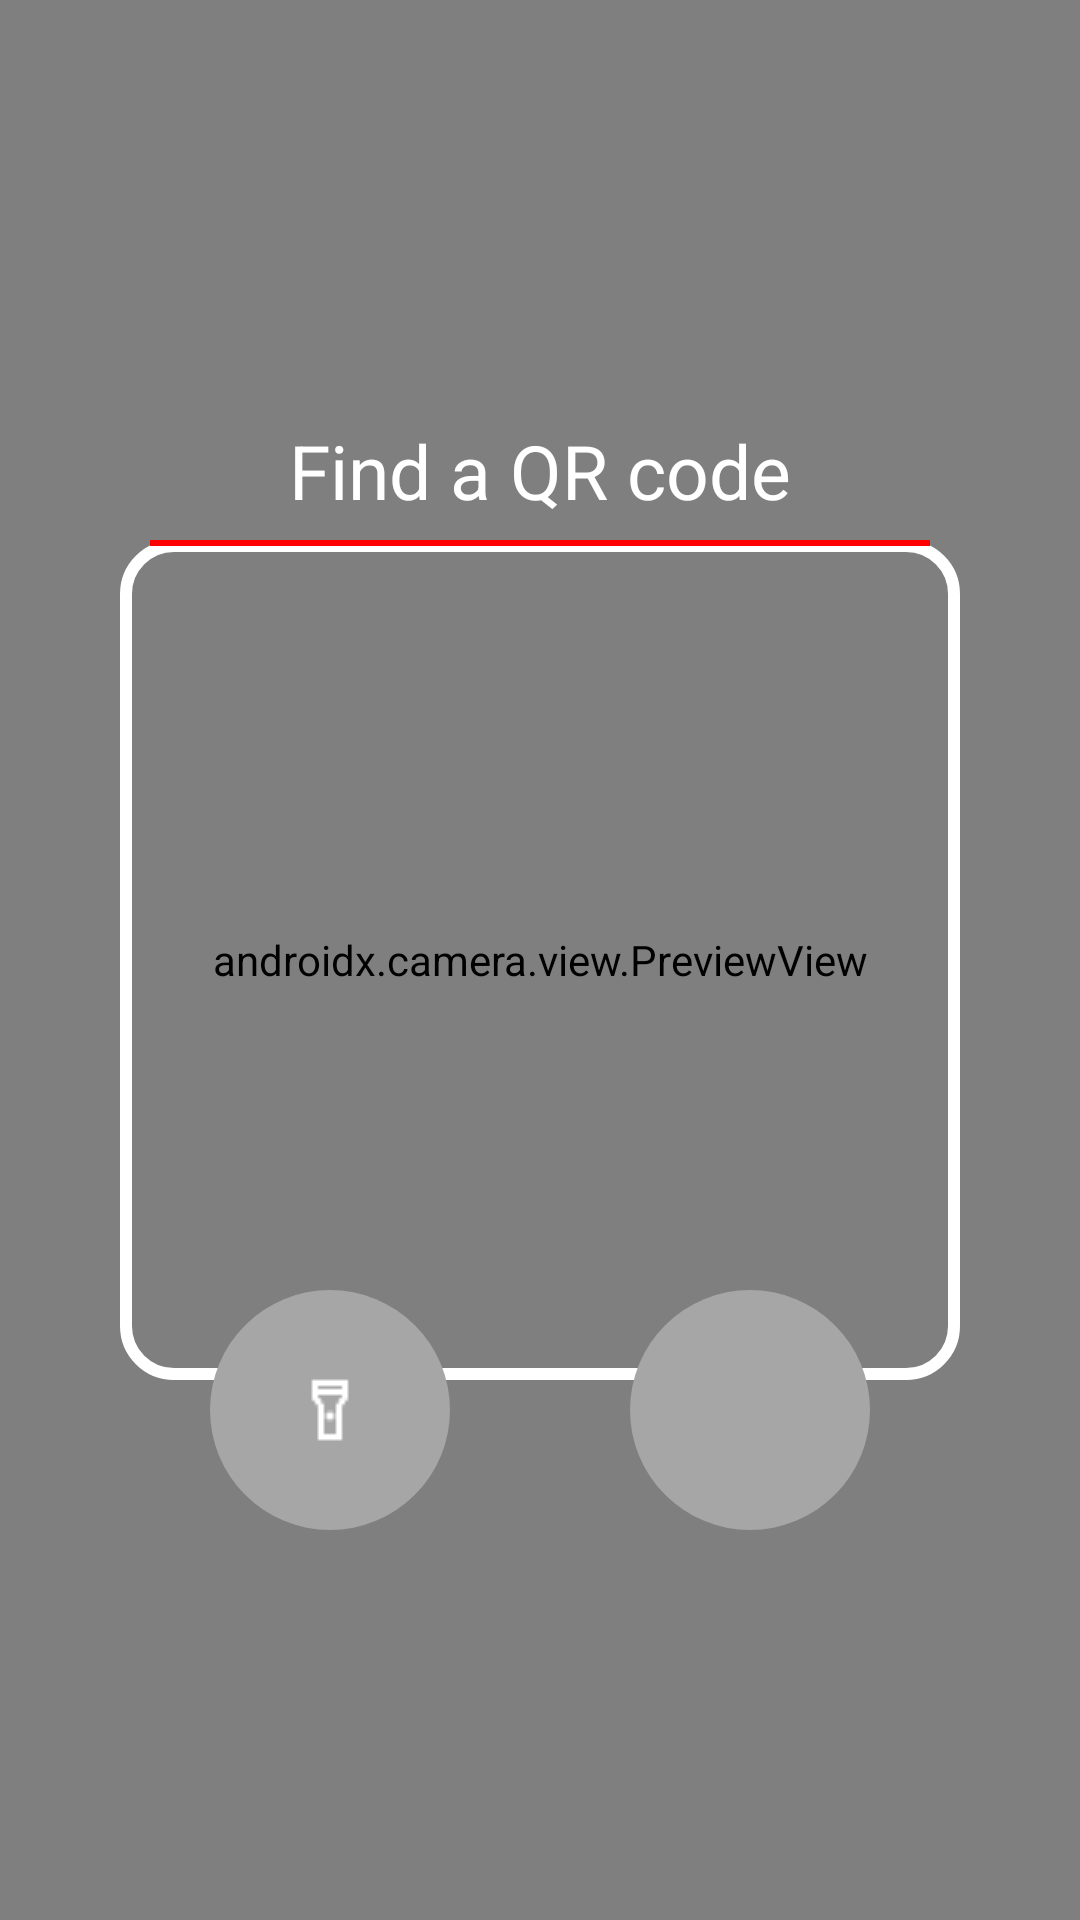

Named icons in this screenshot (1080 x 1920) and their centers, (x=x, y=y):
Flashlight: (x=330, y=1410)
